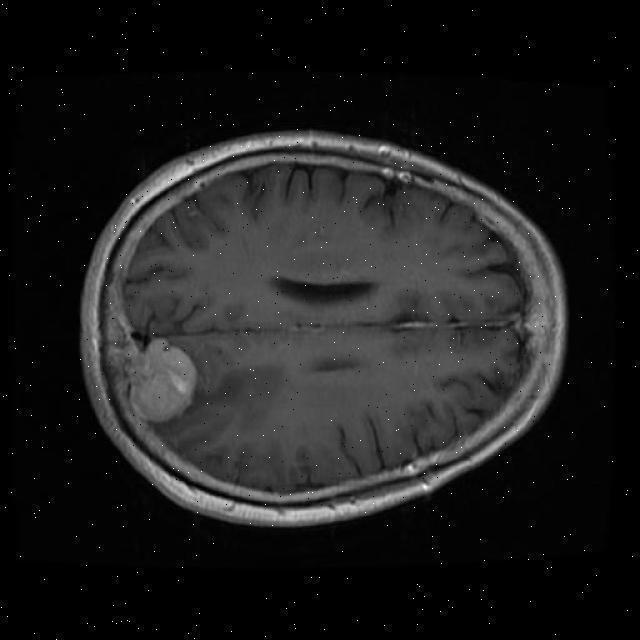Meningioma: (105, 302, 197, 423)
